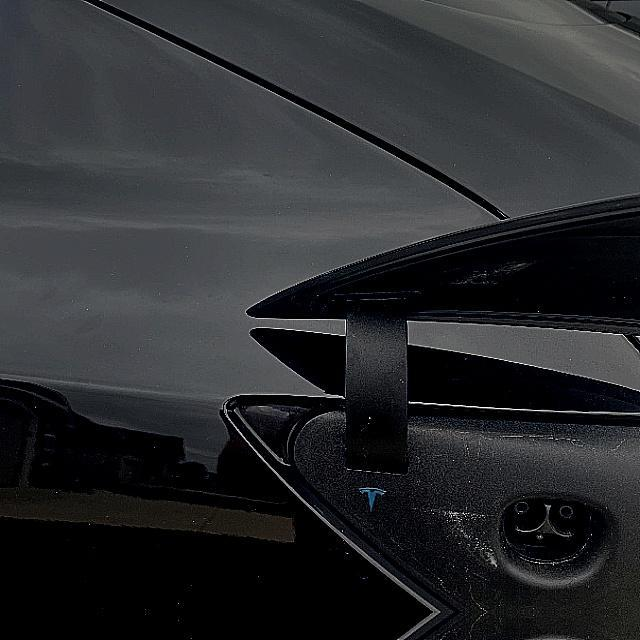Tesla Model-S-: (477, 473, 626, 612)
